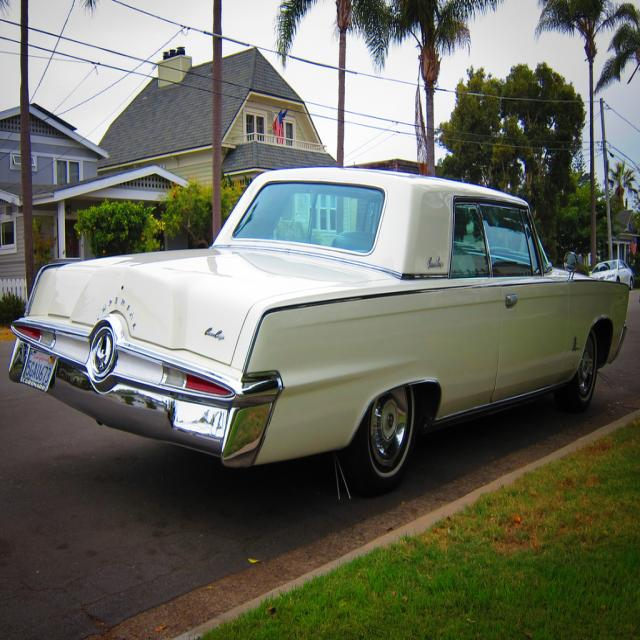Car: (8, 166, 630, 500), (588, 260, 634, 290)
